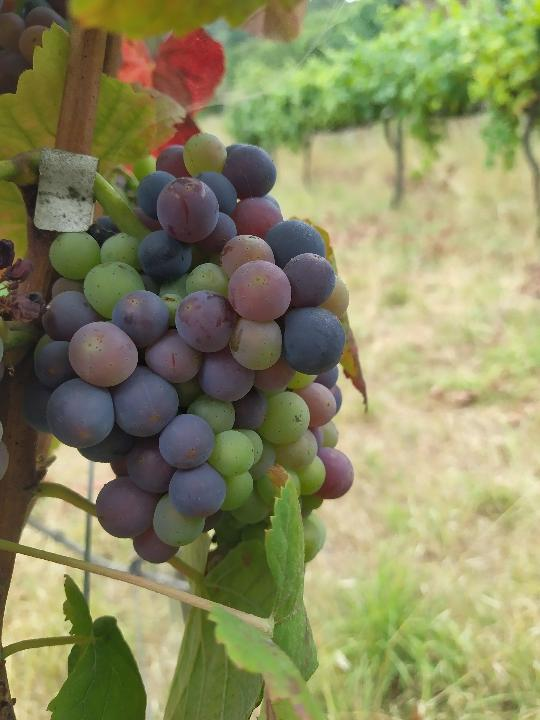grape: (28, 130, 358, 568)
